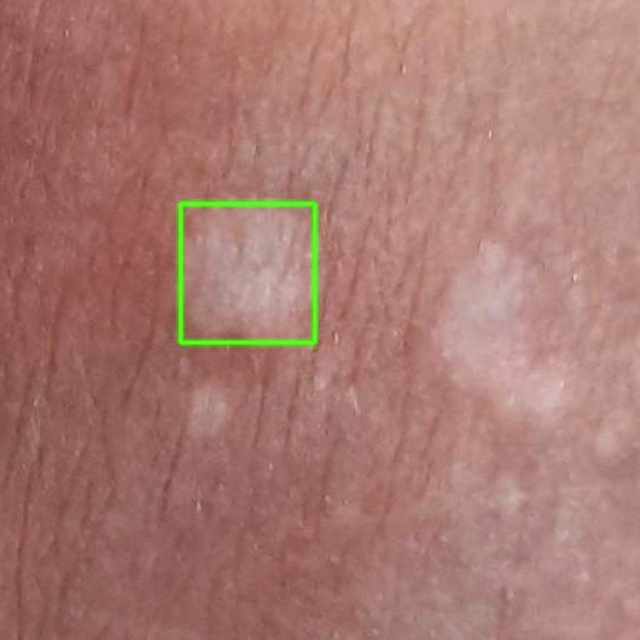Eczema: (180, 203, 315, 342)
